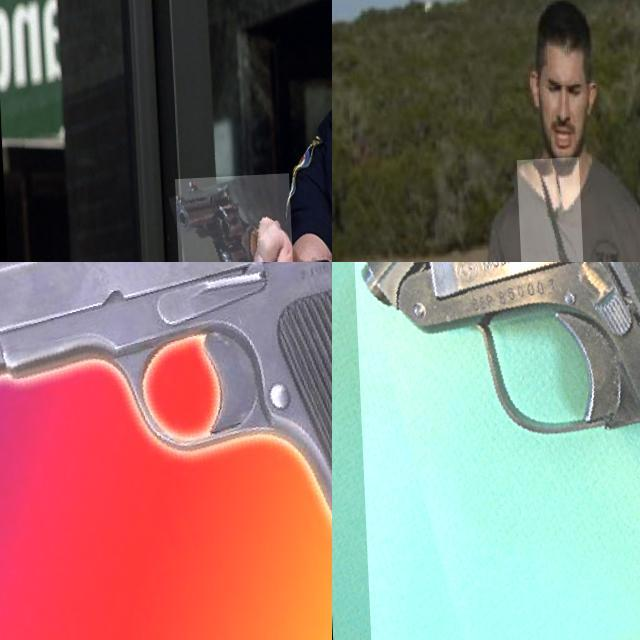-: (515, 160, 583, 262)
gun-knife-thesis - v11 Yolov5 augmented: (0, 262, 332, 640), (344, 262, 640, 640), (170, 176, 289, 262)
